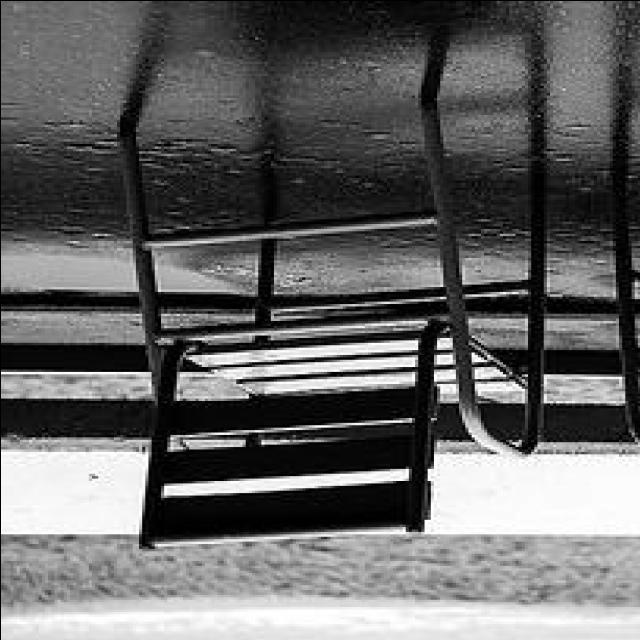chair: (116, 85, 556, 549)
